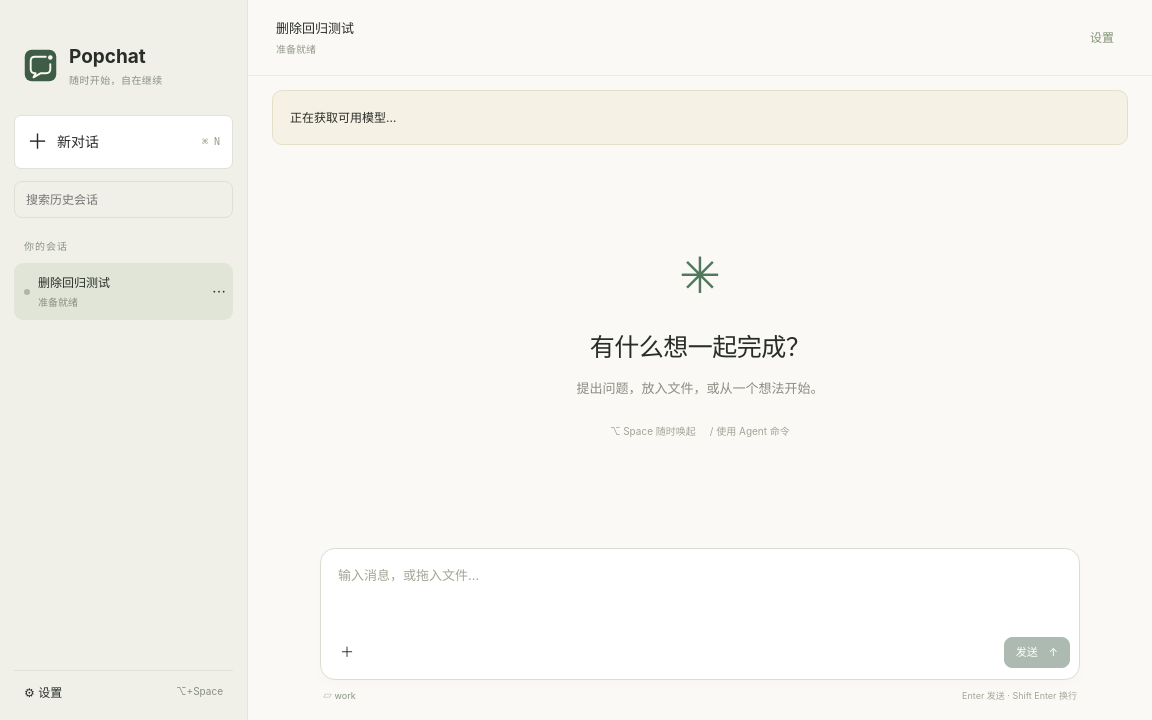
WebView没有confirm弹窗时仍显示删除确认，取消不会删除
Click the button named "管理 删除回归测试".
click(219, 292)  # box 205,278 -> 233,306
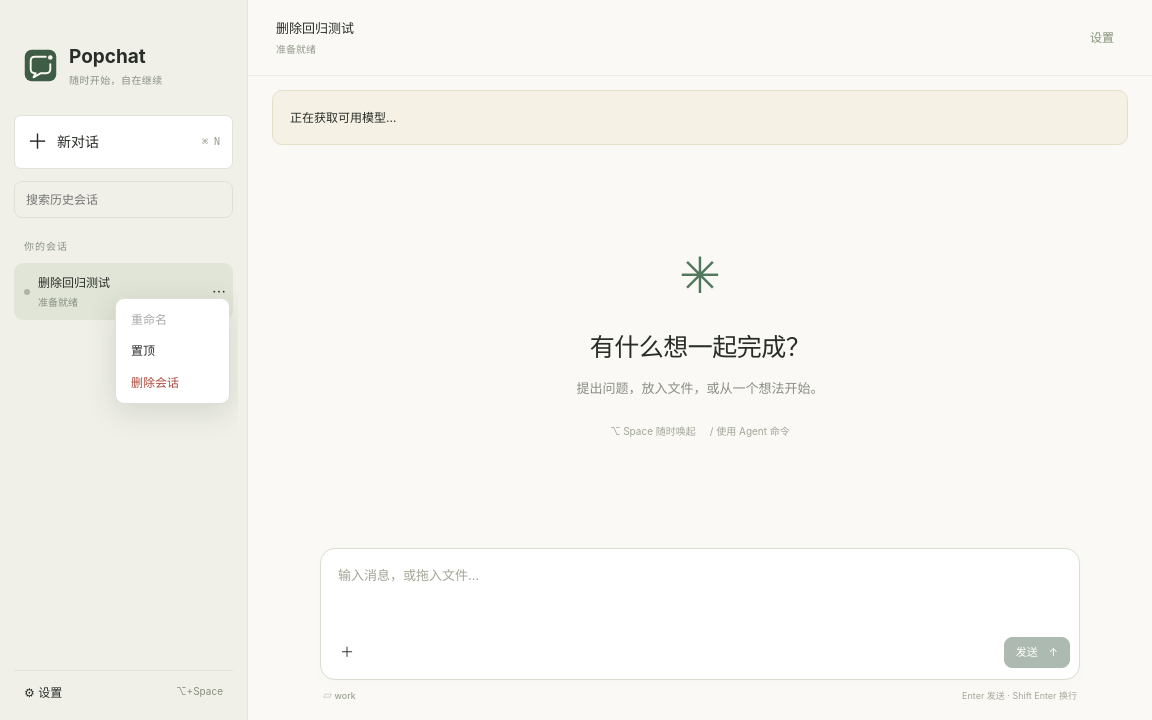
Click the button "删除会话".
click(172, 382)  # box 121,366 -> 224,398
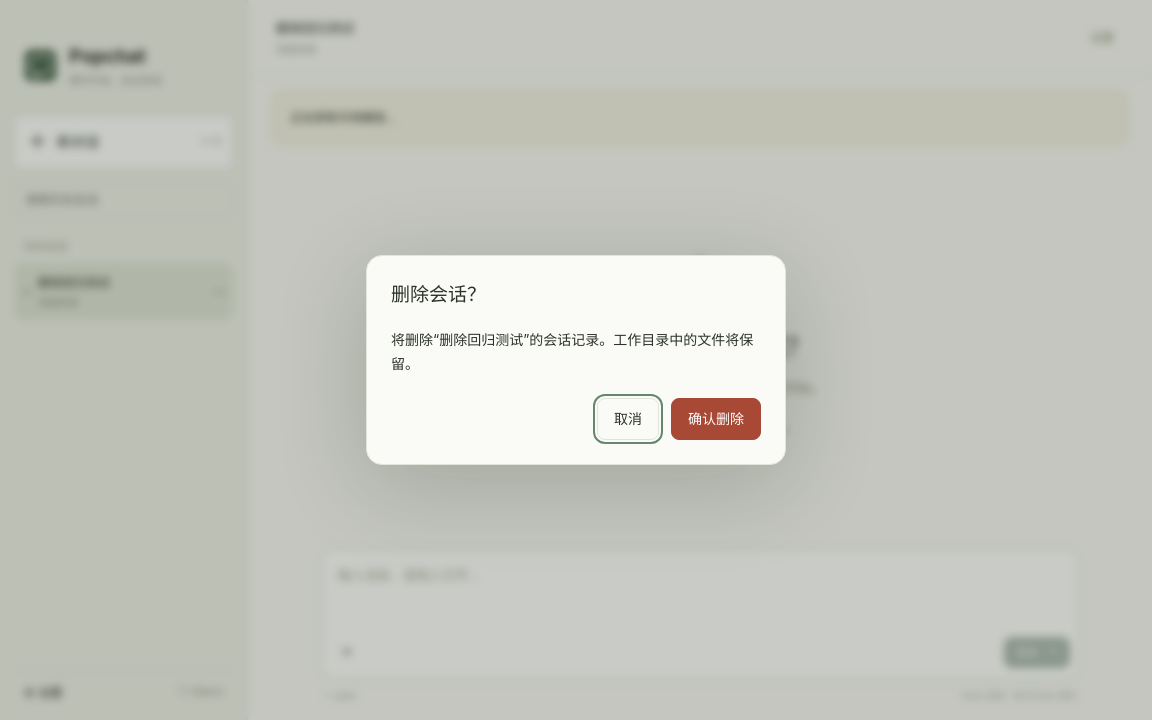
Click the button "取消".
click(628, 419)  # box 597,398 -> 659,440
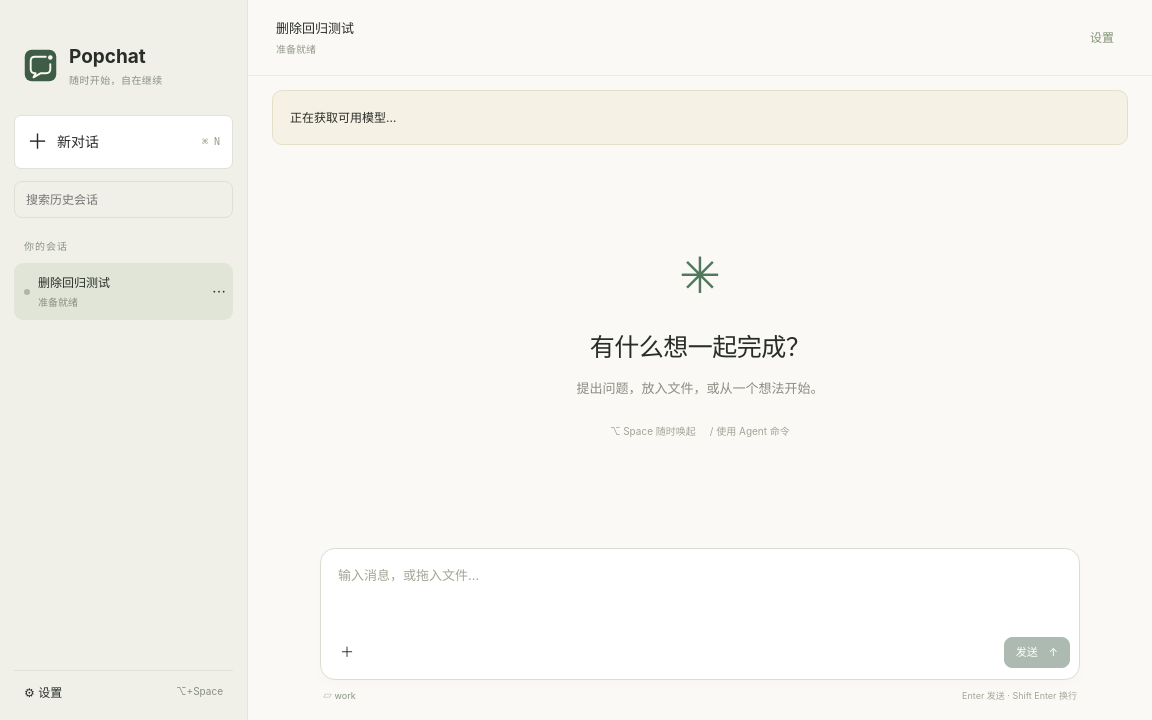
Now the dialog is gone
